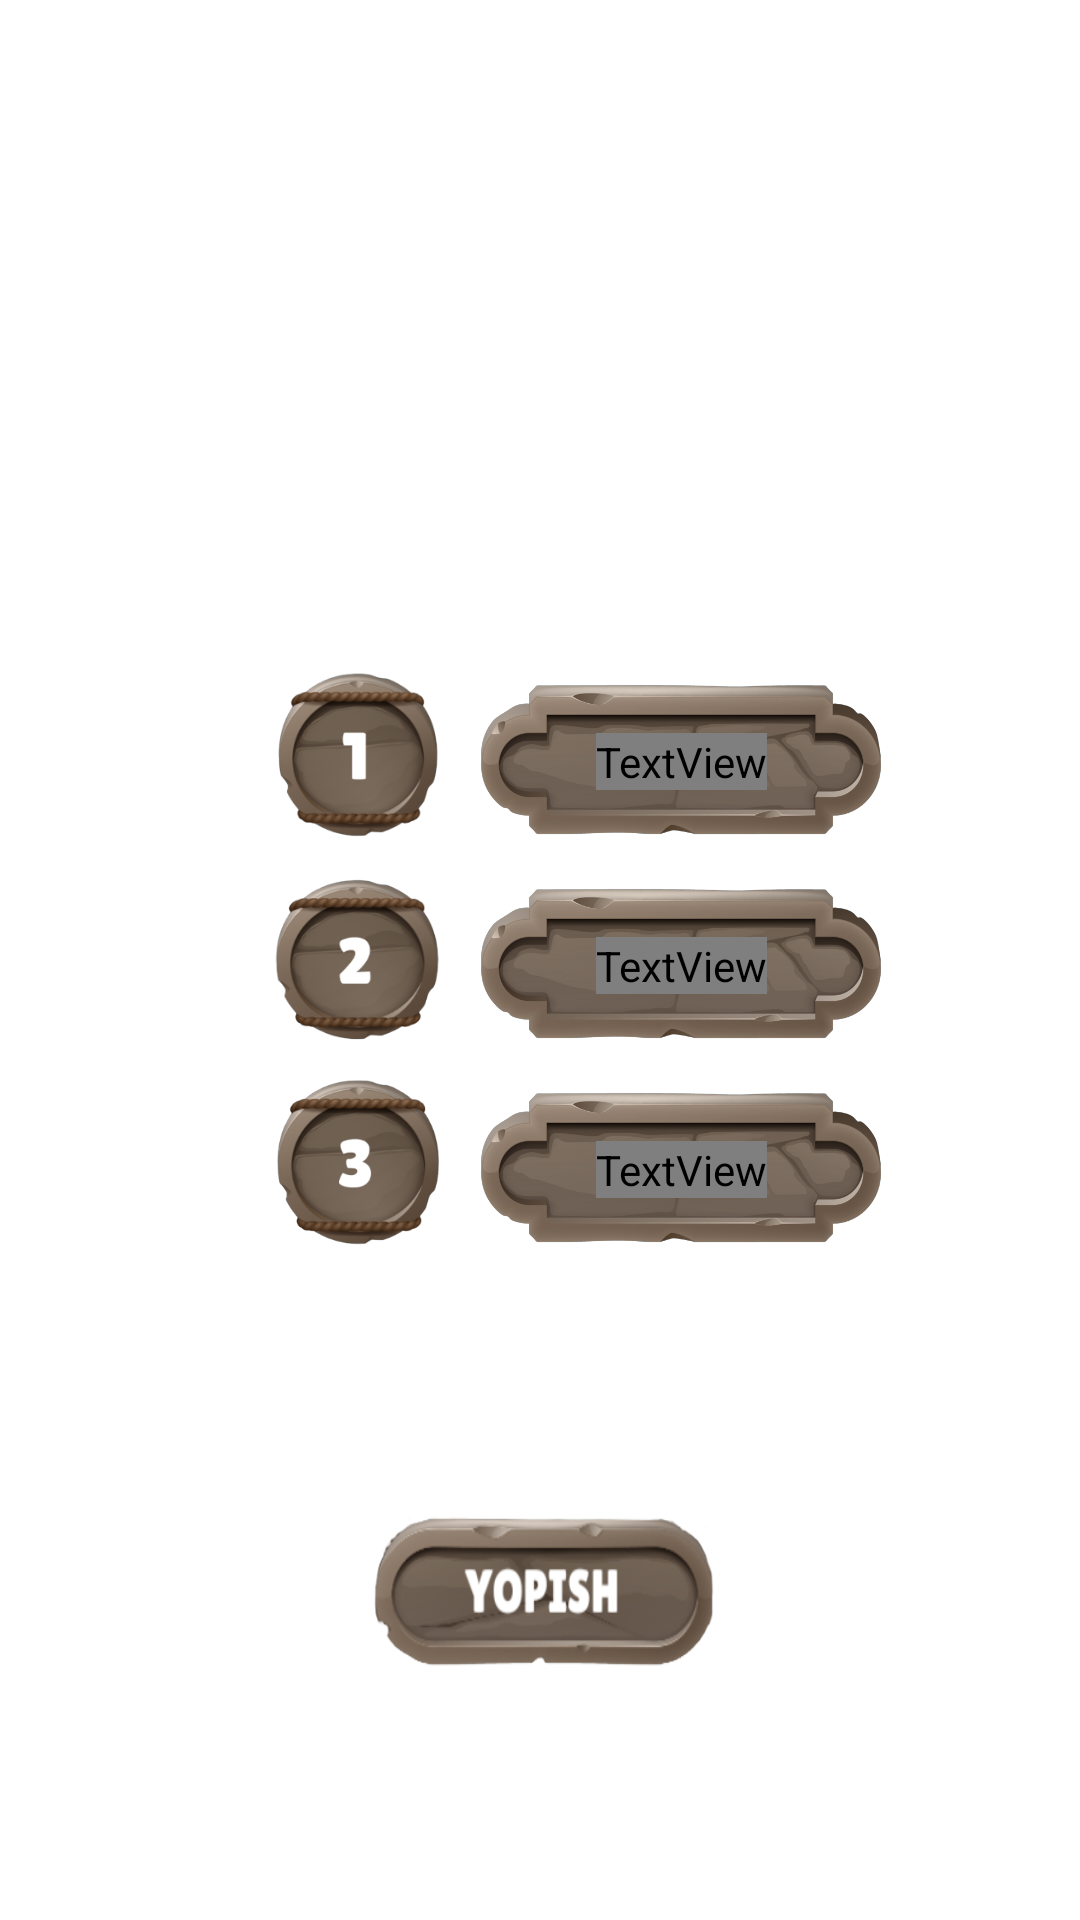

Icons on this 1080w x 1920h Android screen, each with the point to tap as [x,y]:
firs record number back: [358,754]
third record number back: [358,1162]
two record number back: [357,959]
